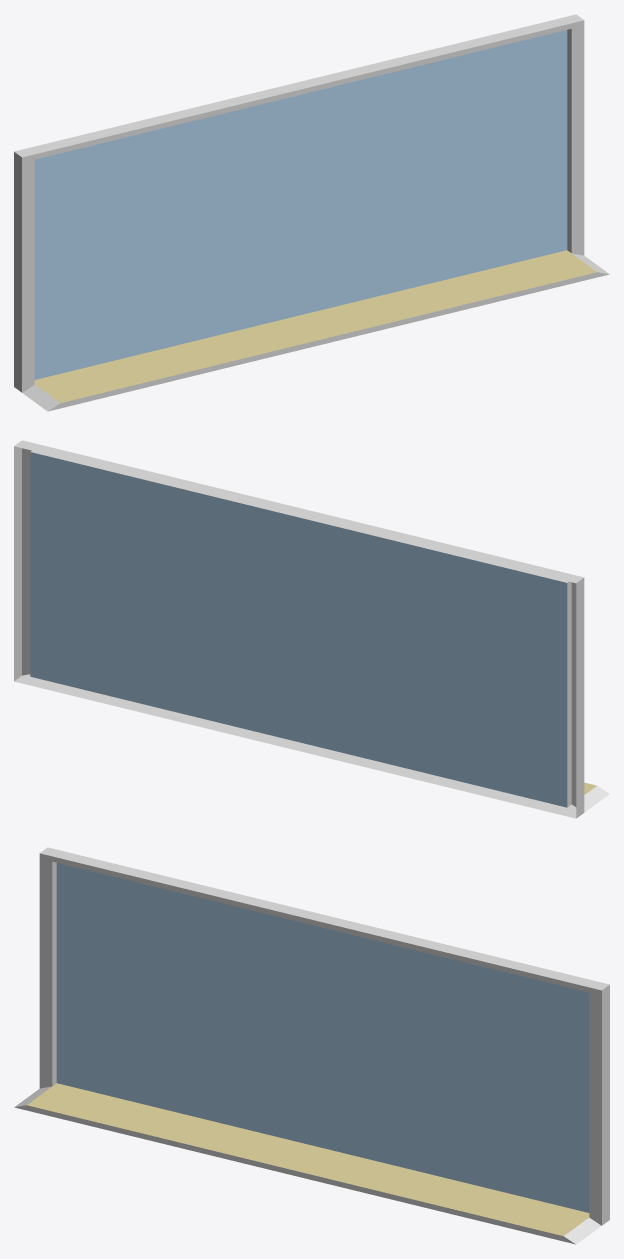
Rendered from Office_Window.fbx.
3 renders of one model, top to bottom at view 1: azimuth 30°, elevation 25°; view 2: azimuth 150°, elevation 25°; view 3: azimuth 330°, elevation 25°, orthographic.
Parts seen in each view (by area): view 1: pCube1; view 2: pCube1; view 3: pCube1.
Part boxes in pixels (<box>): pCube1: <box>14,14,609,411</box>; pCube1: <box>14,440,609,818</box>; pCube1: <box>14,847,609,1244</box>.
Bounding box in the file's own units: 400 × 160 × 41.57.
